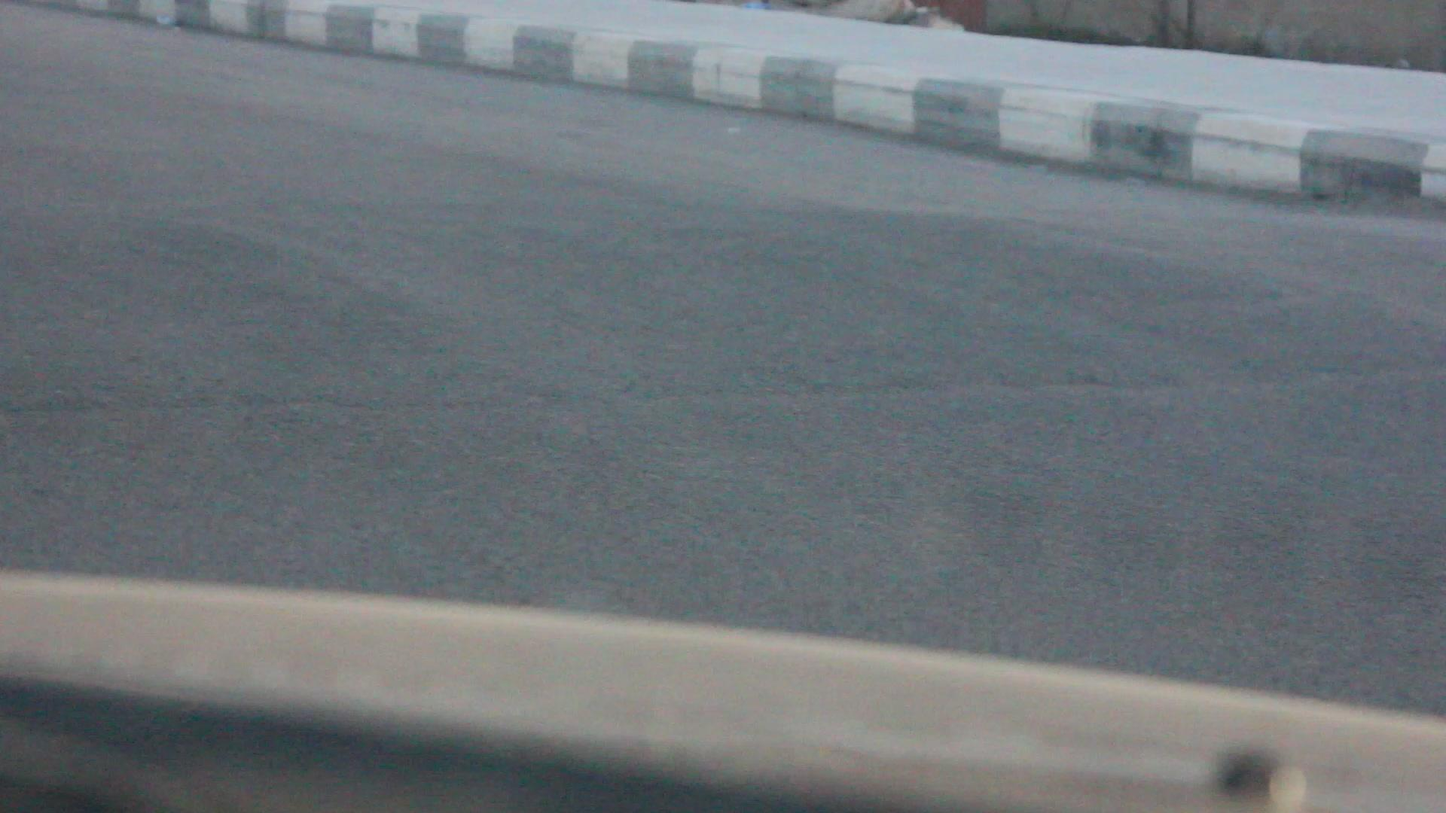Bump: (0, 160, 1445, 455)
